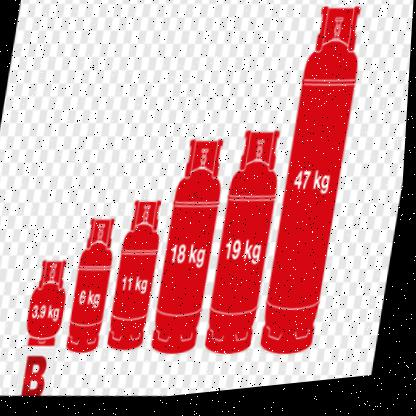gas-tank: (257, 0, 375, 371), (204, 129, 291, 366), (148, 134, 235, 367), (107, 194, 173, 370), (62, 212, 125, 365), (18, 251, 80, 359)
